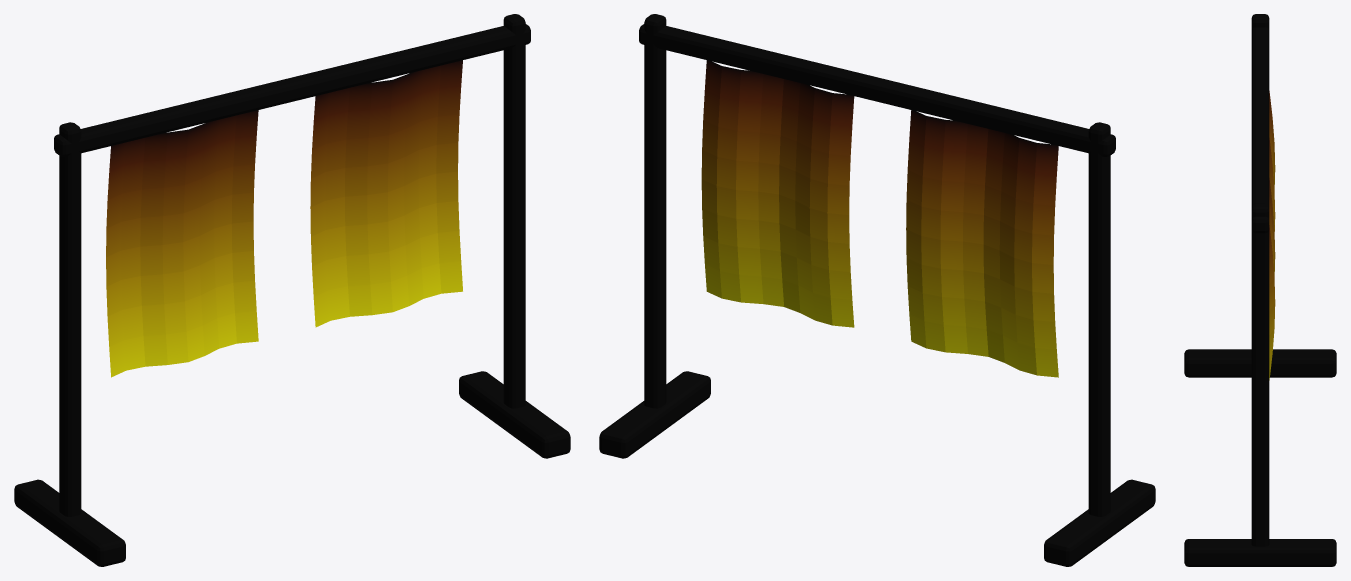
The model's file is cloth_sample.glb.
3 views of the same model, side by side, from view 1: azimuth 30°, elevation 25°; view 2: azimuth 150°, elevation 25°; view 3: azimuth 270°, elevation 25° (orthographic). The views are drawn at different scales.
Parts seen in each view (by area): view 1: cloth_1, cloth_0, rack_crossbar, rack_post, rack_post.001, rack_foot, rack_foot.001; view 2: cloth_1, cloth_0, rack_crossbar, rack_post.001, rack_post, rack_foot, rack_foot.001; view 3: rack_post.001, rack_foot.001, rack_foot, rack_crossbar, cloth_1, cloth_0, rack_post.
Part boxes in pixels (box(x1,y1,x2,y2)): cloth_1: box(310, 60, 462, 327); cloth_0: box(106, 110, 258, 377); rack_crossbar: box(54, 24, 530, 156); rack_post: box(59, 122, 81, 516); rack_post.001: box(503, 14, 525, 408); rack_foot: box(14, 479, 125, 566); rack_foot.001: box(459, 371, 570, 458); cloth_1: box(701, 60, 854, 327); cloth_0: box(906, 110, 1058, 377); rack_crossbar: box(639, 24, 1115, 156); rack_post.001: box(644, 14, 666, 408); rack_post: box(1088, 122, 1110, 516); rack_foot: box(1044, 479, 1155, 566); rack_foot.001: box(599, 371, 710, 458); rack_post.001: box(1251, 203, 1269, 546); rack_foot.001: box(1184, 539, 1336, 566); rack_foot: box(1184, 349, 1336, 377); rack_crossbar: box(1251, 27, 1269, 233); cloth_1: box(1269, 178, 1275, 380); cloth_0: box(1269, 91, 1275, 231); rack_post: box(1251, 14, 1269, 28).
Bounding box in the file's own units: 2.66 × 2.2 × 0.85.
